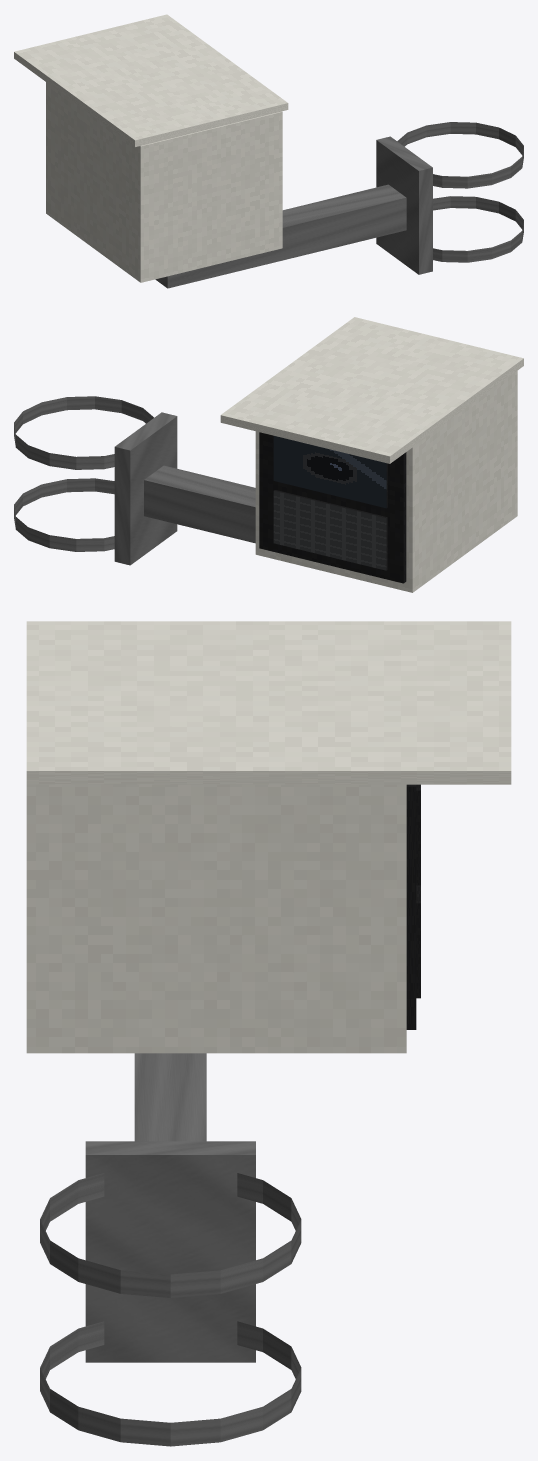
File: speed_camera_side_right_pedestal.obj
3 views of the same model, one above another, from view 1: azimuth 30°, elevation 25°; view 2: azimuth 150°, elevation 25°; view 3: azimuth 270°, elevation 25° (orthographic). The views are drawn at different scales.
Visible parts, largest first — view 1: speed_camera_side_right_pedestal; view 2: speed_camera_side_right_pedestal; view 3: speed_camera_side_right_pedestal.
Part boxes in pixels (<box>): speed_camera_side_right_pedestal: <box>14,14,523,288</box>; speed_camera_side_right_pedestal: <box>14,317,523,592</box>; speed_camera_side_right_pedestal: <box>26,621,511,1446</box>.
Size of the model in its own units: 1.47 by 0.735 by 0.74.
